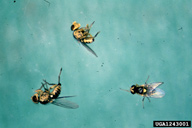Trifoli: (24, 70, 78, 116), (125, 76, 174, 110), (69, 17, 104, 64)
